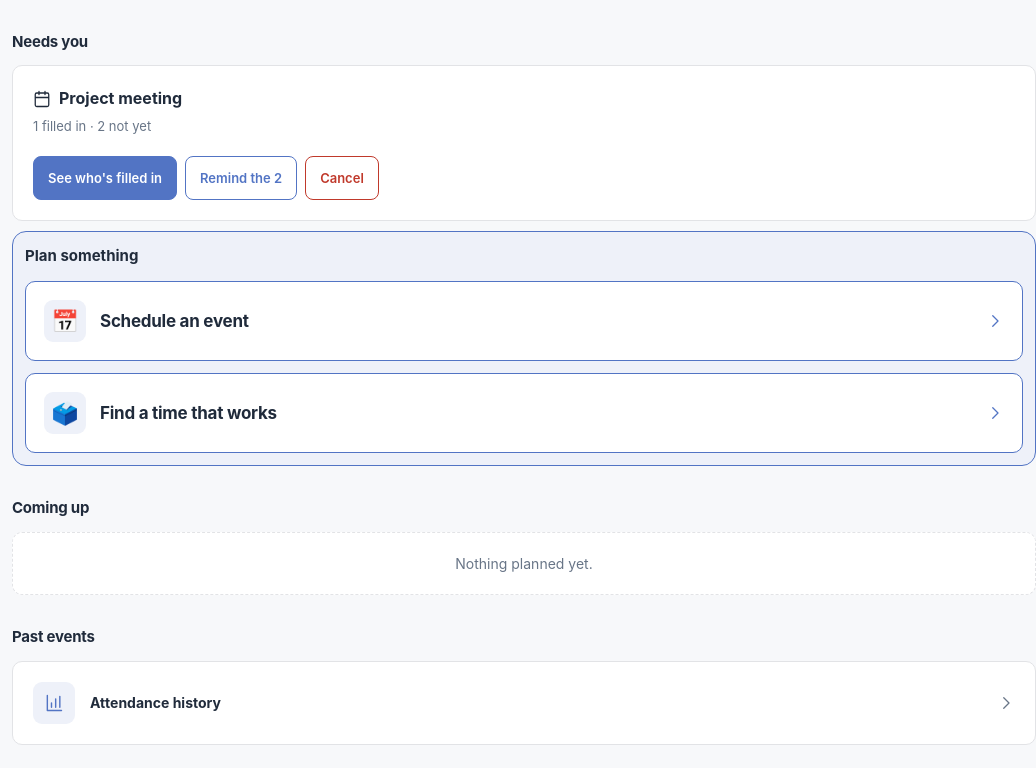
Test: cancelling a poll › lets the organiser cancel from the card, after confirming
This screenshot has width=1036, height=768.
Click the button "Cancel": (342, 178) [305,156,379,200]
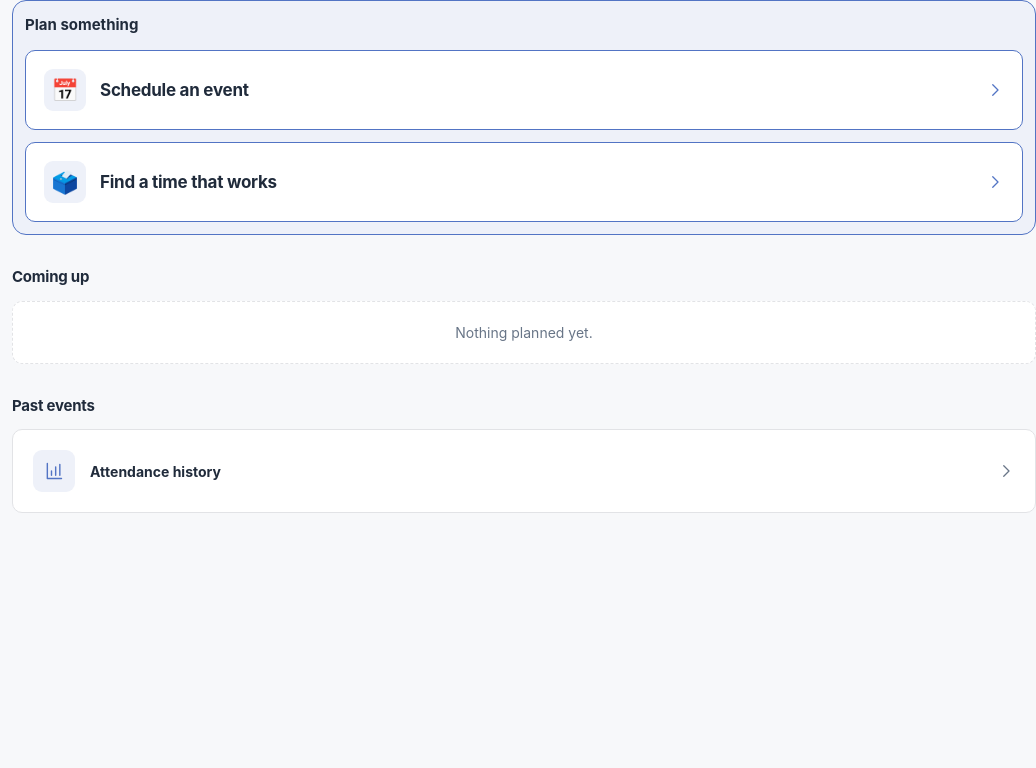
expect the heading "Project meeting" is gone: met
